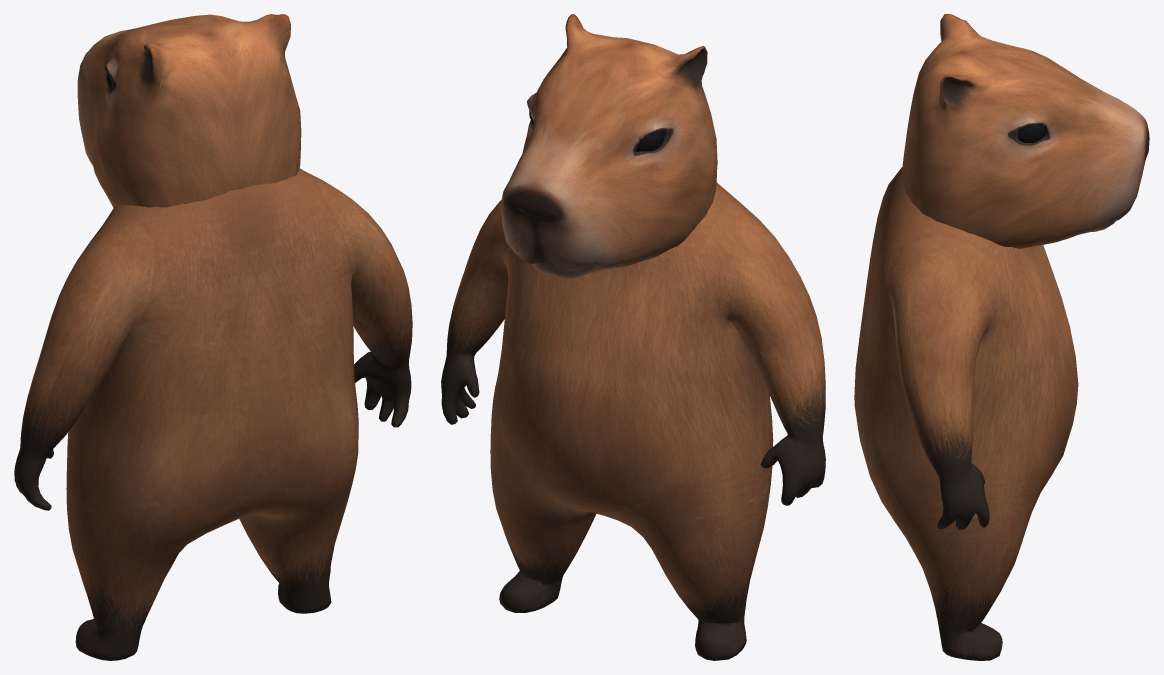
Rendered from Capybara09180.obj.
The picture shows the model from 3 angles, left to right: view 1: azimuth 30°, elevation 25°; view 2: azimuth 150°, elevation 25°; view 3: azimuth 270°, elevation 25°; orthographic projection. The views are drawn at different scales.
Parts seen in each view (by area): view 1: Player9, Player4, Player8, Player7, Player2, Player6, Player1, Player15, Player12, Player11, Player14, Player13 (+3 smaller); view 2: Player9, Player4, Player8, Player7, Player2, Player1, Player6, Player12, Player11, Player14, Player3, Player15 (+3 smaller); view 3: Player4, Player9, Player15, Player12, Player8, Player14, Player11, Player13, Player10.
Boxes of the visible parts, box(x1,y1,x2,y2) form: Player9: box(77, 168, 355, 461); Player4: box(77, 14, 301, 207); Player8: box(67, 391, 358, 524); Player7: box(66, 447, 224, 569); Player2: box(42, 232, 139, 379); Player6: box(69, 532, 171, 632); Player1: box(20, 347, 102, 456); Player15: box(324, 181, 406, 314); Player12: box(239, 437, 358, 539); Player11: box(242, 502, 347, 589); Player14: box(353, 279, 412, 367); Player13: box(354, 351, 411, 427); Player9: box(494, 182, 770, 459); Player4: box(501, 14, 717, 278); Player8: box(491, 386, 773, 520); Player7: box(616, 440, 773, 562); Player2: box(718, 218, 818, 360); Player1: box(753, 327, 825, 440); Player6: box(659, 529, 763, 621); Player12: box(490, 426, 595, 537); Player11: box(493, 494, 590, 581); Player14: box(447, 263, 506, 354); Player3: box(760, 434, 825, 505); Player15: box(467, 200, 508, 299); Player4: box(901, 14, 1149, 248); Player9: box(854, 167, 1078, 446); Player15: box(892, 256, 995, 383); Player12: box(870, 472, 1052, 555); Player8: box(855, 408, 1075, 480); Player14: box(901, 379, 973, 478); Player11: box(915, 548, 1019, 629); Player13: box(937, 463, 989, 529); Player10: box(938, 622, 1002, 660).
Size of the model in its own units: 3.15 by 4.67 by 2.21.
